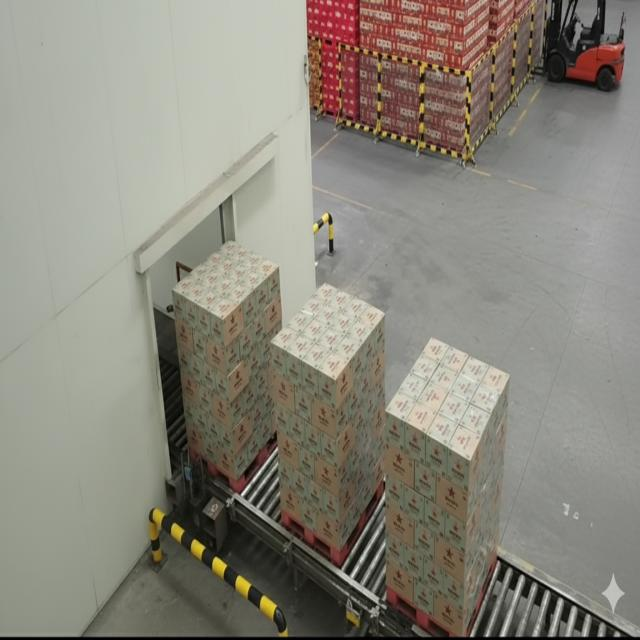pallet: (381, 323, 519, 640), (270, 270, 389, 577), (173, 232, 286, 508)
